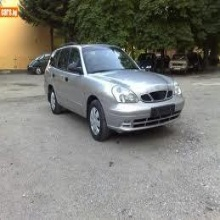no damage: (43, 44, 184, 142), (170, 53, 197, 75), (29, 53, 53, 76)
